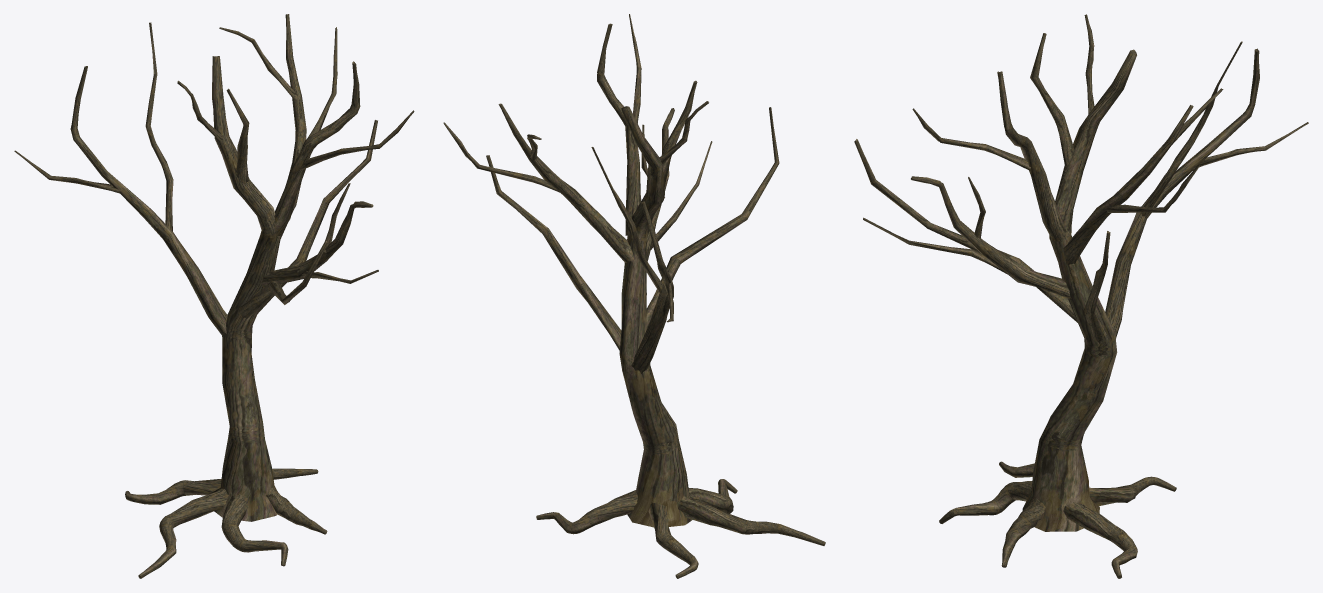
The model's file is tronco.obj.
The picture shows the model from 3 angles, left to right: view 1: azimuth 30°, elevation 25°; view 2: azimuth 150°, elevation 25°; view 3: azimuth 270°, elevation 25°; orthographic projection. The views are drawn at different scales.
Visible parts, largest first — view 1: tree_Mesh.001; view 2: tree_Mesh.001; view 3: tree_Mesh.001.
Part boxes in pixels (<box>): tree_Mesh.001: <box>14,14,414,578</box>; tree_Mesh.001: <box>443,14,825,578</box>; tree_Mesh.001: <box>854,14,1308,578</box>.
Size of the model in its own units: 3.2 by 4.95 by 3.99.
Materials: 1 (1 with a texture image).
